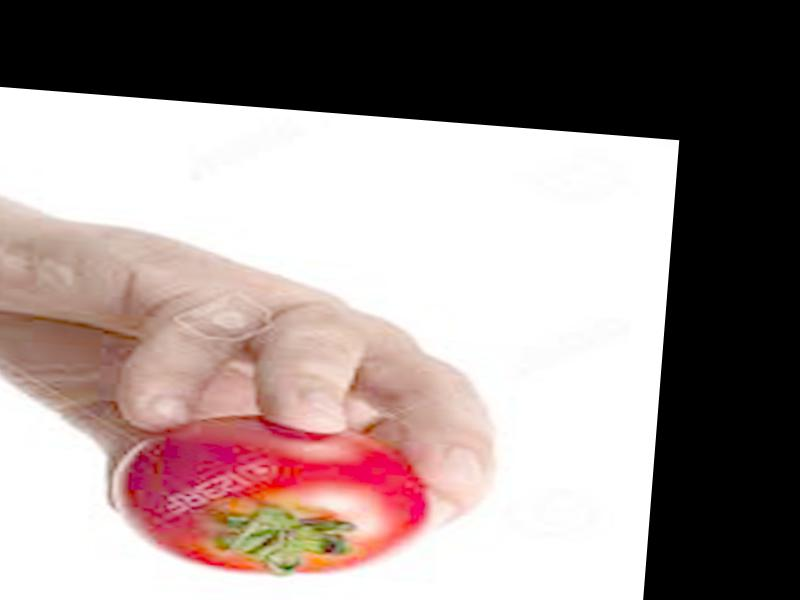Tomato: (110, 407, 436, 588)
